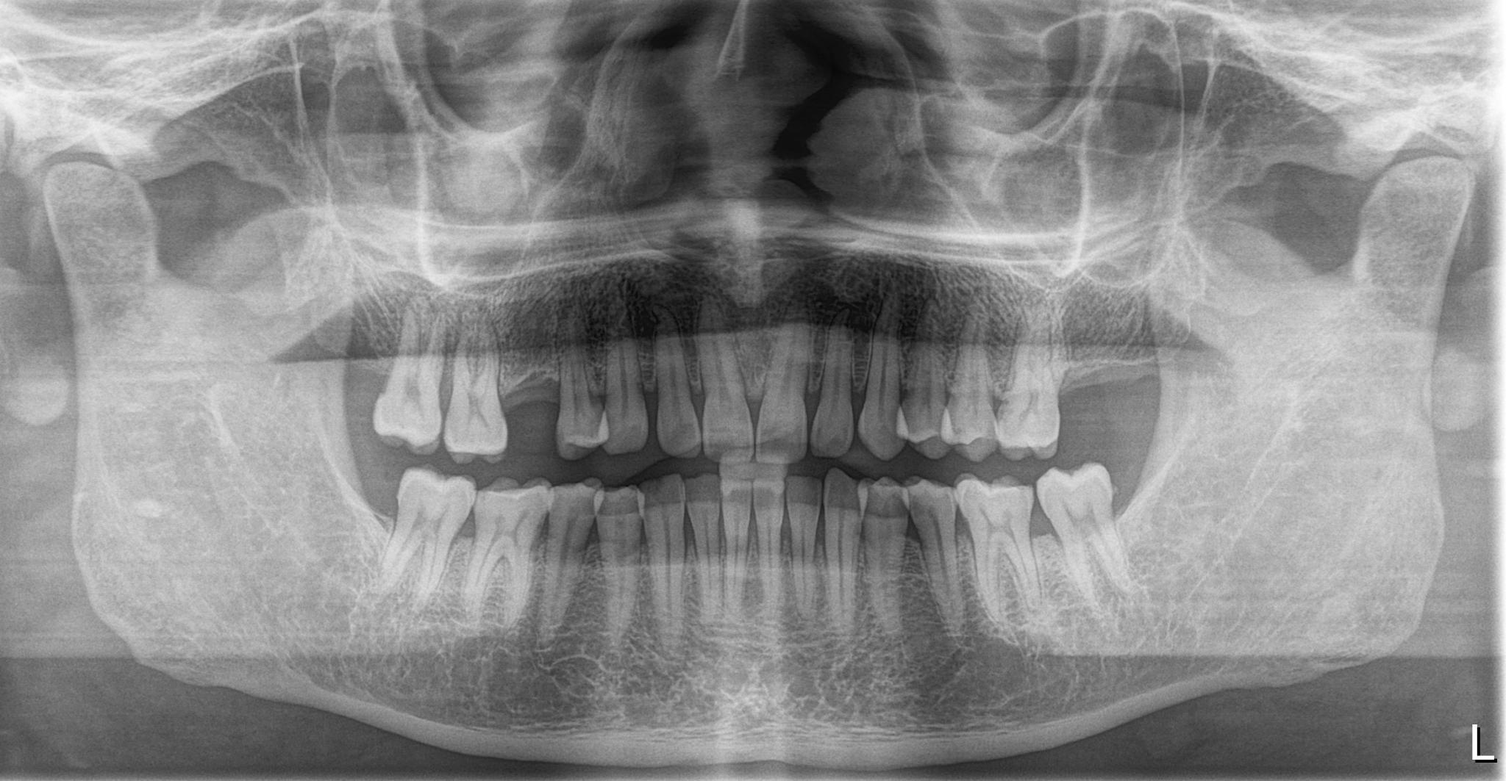Missing Tooth: (1072, 340, 1166, 460), (347, 279, 395, 416), (1093, 450, 1148, 552), (504, 353, 565, 439), (353, 435, 404, 530)
